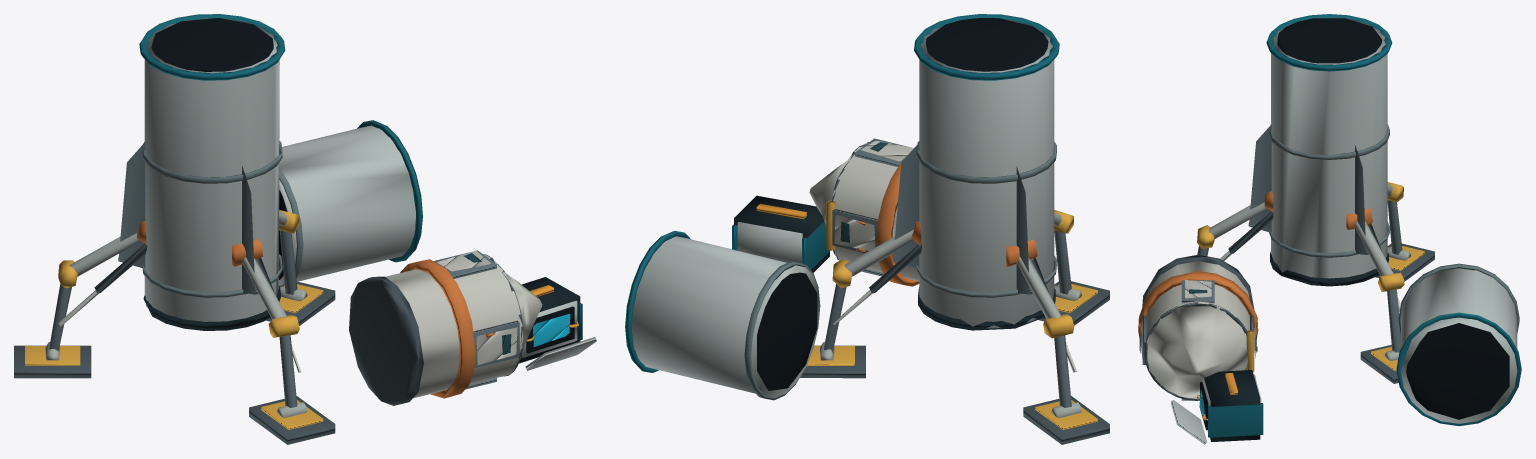
File: sh02_salvage_layout_stage1_lod2.glb
3 renders of one model, left to right at view 1: azimuth 30°, elevation 25°; view 2: azimuth 150°, elevation 25°; view 3: azimuth 270°, elevation 25°, orthographic. The views are drawn at different scales.
Parts seen in each view (by area): view 1: SH02_SALVAGE_DISTANCE_GEOMETRY; view 2: SH02_SALVAGE_DISTANCE_GEOMETRY; view 3: SH02_SALVAGE_DISTANCE_GEOMETRY.
Part boxes in pixels (<box>): SH02_SALVAGE_DISTANCE_GEOMETRY: <box>14,14,596,444</box>; SH02_SALVAGE_DISTANCE_GEOMETRY: <box>625,14,1109,444</box>; SH02_SALVAGE_DISTANCE_GEOMETRY: <box>1138,14,1521,444</box>.
Size of the model in its own units: 15.66 by 10.7 by 13.16.
